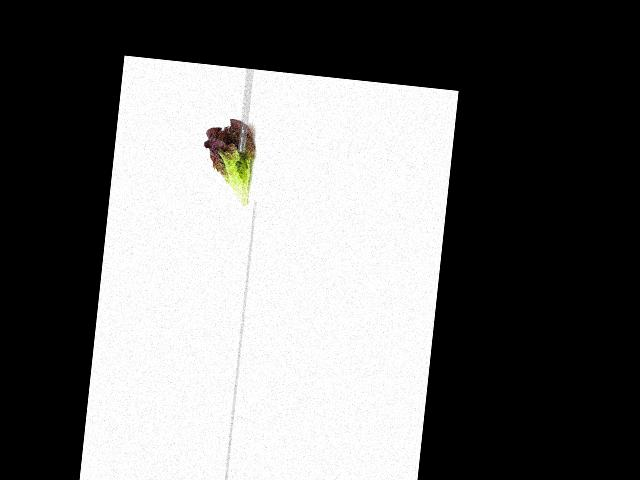lettuce: (197, 114, 262, 209)
